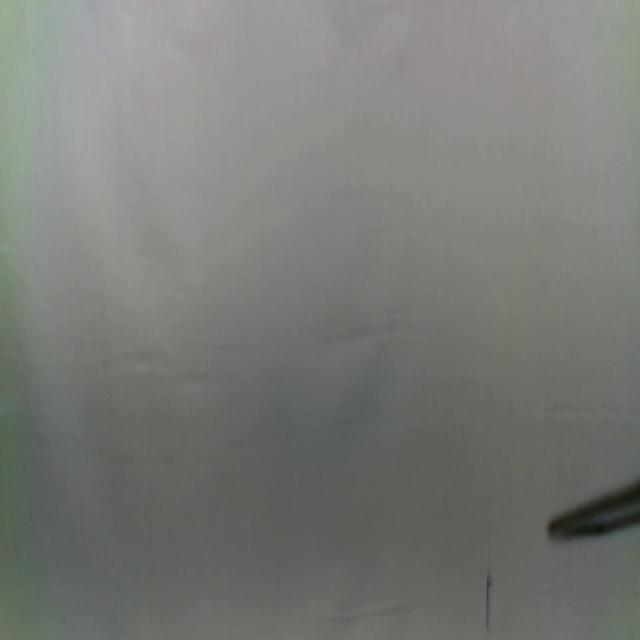hole: (483, 569, 492, 627)
